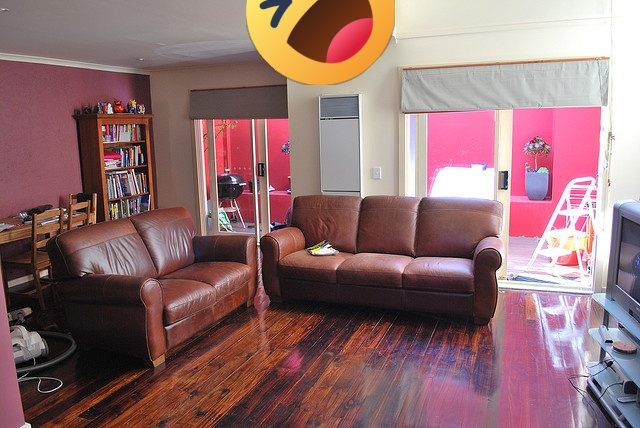haha: (246, 0, 395, 85)
